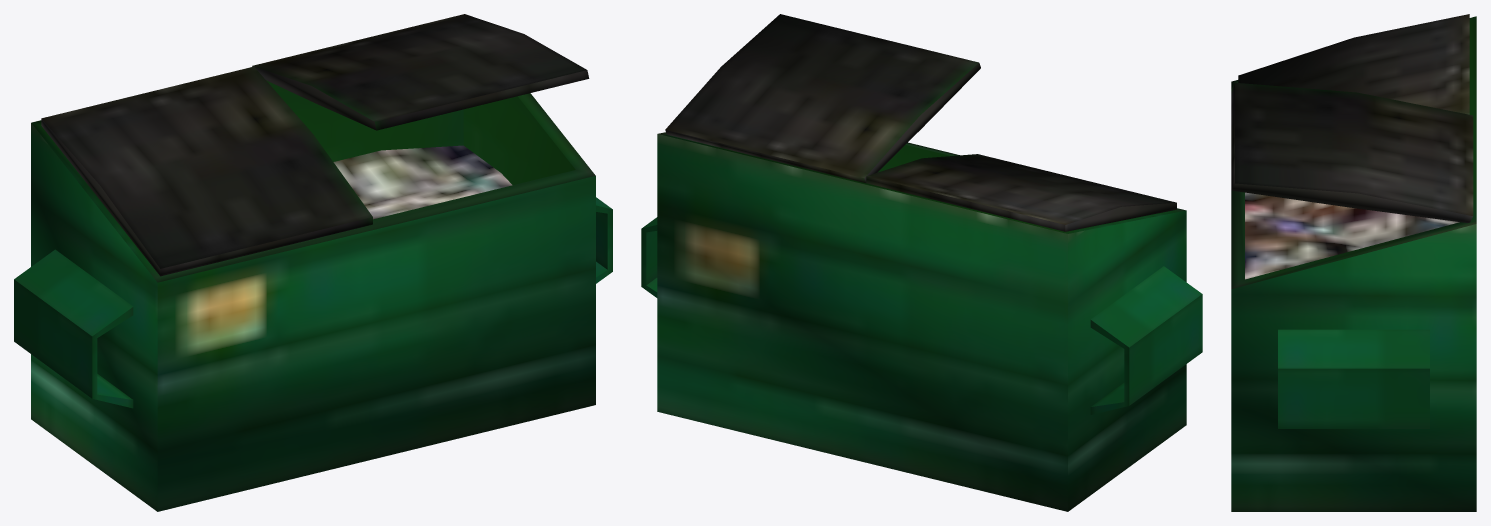
Rendered from psx_industrial_pack_dumpster.glb.
3 views of the same model, side by side, from view 1: azimuth 30°, elevation 25°; view 2: azimuth 150°, elevation 25°; view 3: azimuth 270°, elevation 25° (orthographic). The views are drawn at different scales.
Parts seen in each view (by area): view 1: Dumpster, DumpsterTrash; view 2: Dumpster; view 3: Dumpster, DumpsterTrash.
Part boxes in pixels (x1,y1,x2,y2): Dumpster: (14, 14, 612, 511); DumpsterTrash: (333, 145, 512, 219); Dumpster: (641, 14, 1202, 511); Dumpster: (1231, 14, 1476, 511); DumpsterTrash: (1245, 192, 1459, 279).
Bounding box in the file's own units: 2.02 × 1.24 × 0.8499.
Materials: 2 (2 with a texture image).
